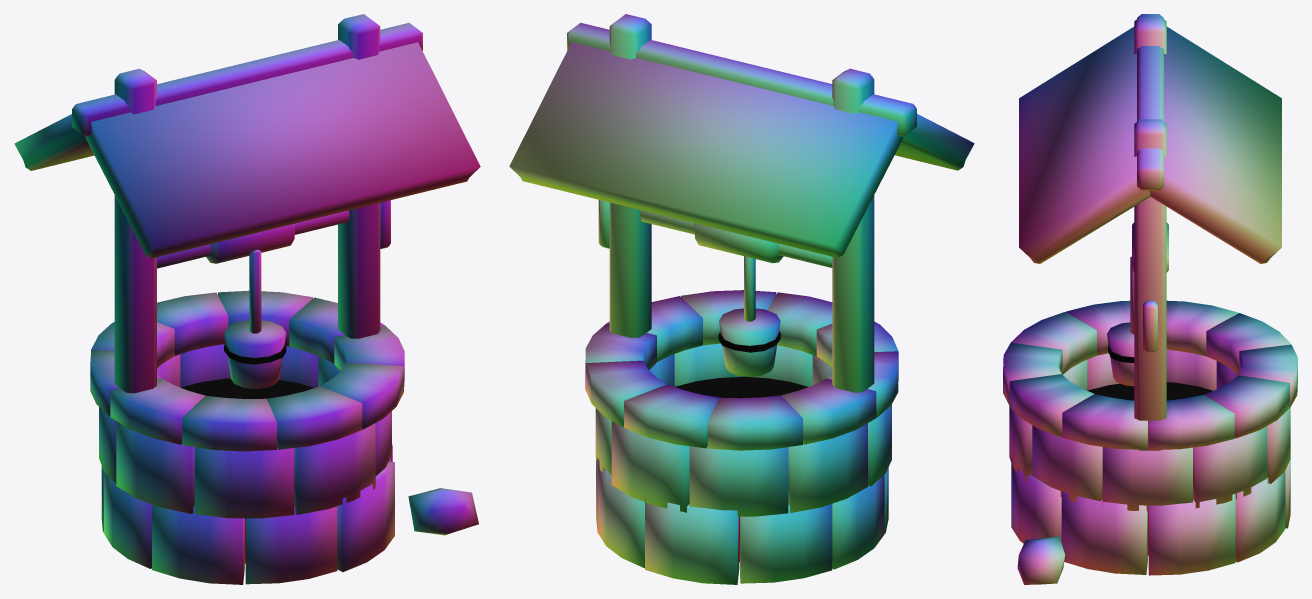
File: SM_Prop_Camp_Well.fbx
3 views of the same model, side by side, from view 1: azimuth 30°, elevation 25°; view 2: azimuth 150°, elevation 25°; view 3: azimuth 270°, elevation 25° (orthographic). The views are drawn at different scales.
Parts seen in each view (by area): view 1: SM_Prop_Camp_Well; view 2: SM_Prop_Camp_Well; view 3: SM_Prop_Camp_Well.
Part boxes in pixels (box(x1,y1,x2,y2)): SM_Prop_Camp_Well: box(14, 14, 480, 584); SM_Prop_Camp_Well: box(509, 14, 974, 584); SM_Prop_Camp_Well: box(1003, 14, 1297, 584).
Bounding box in the file's own units: 1.52 × 2.04 × 1.21.
